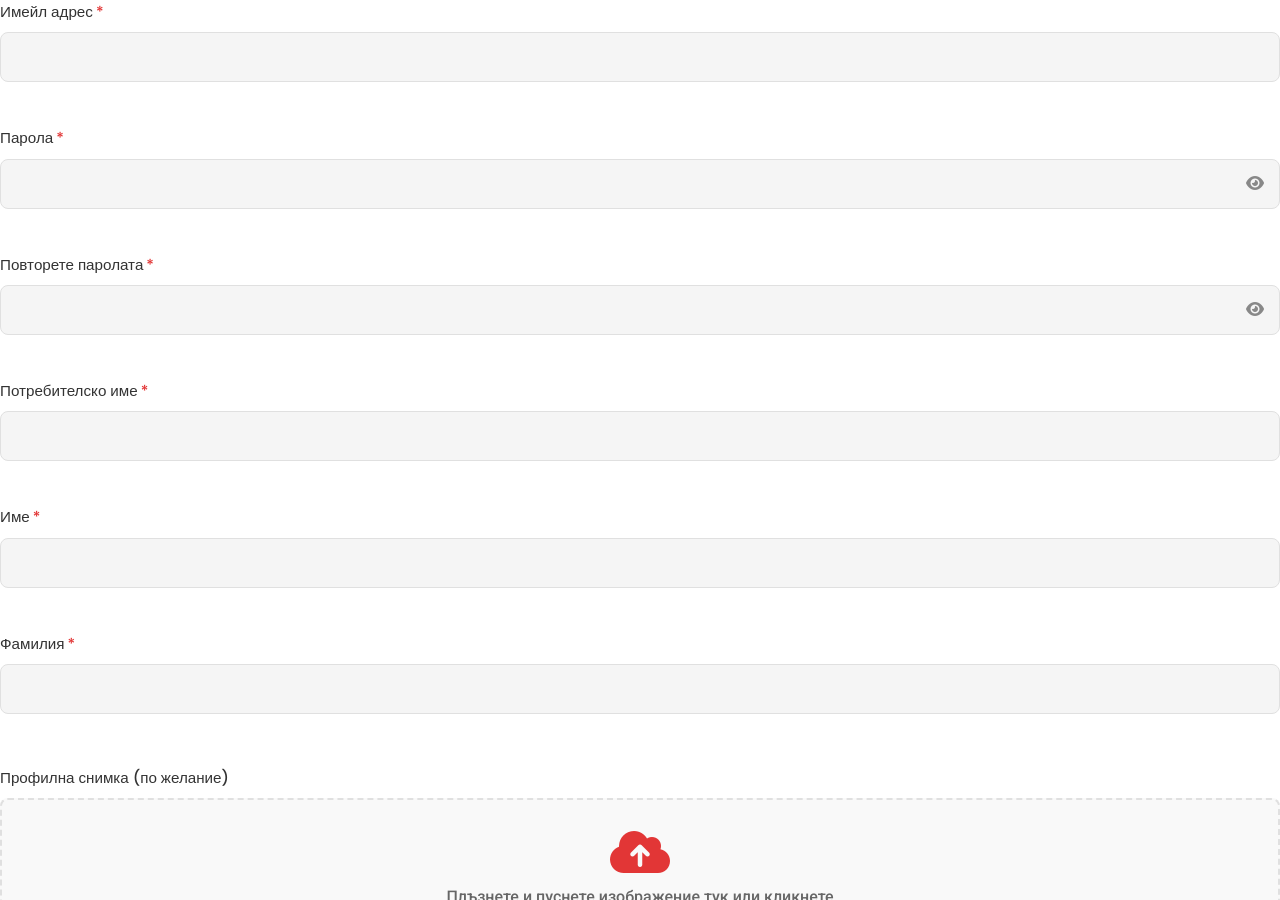
RegisterForm компонент › активира бутона за регистрация когато формата е валидна
This screenshot has width=1280, height=900.
Type "test@example.com" into the field labelled "Имейл адрес*". click: (640, 57)
box: [0,32,1279,82]
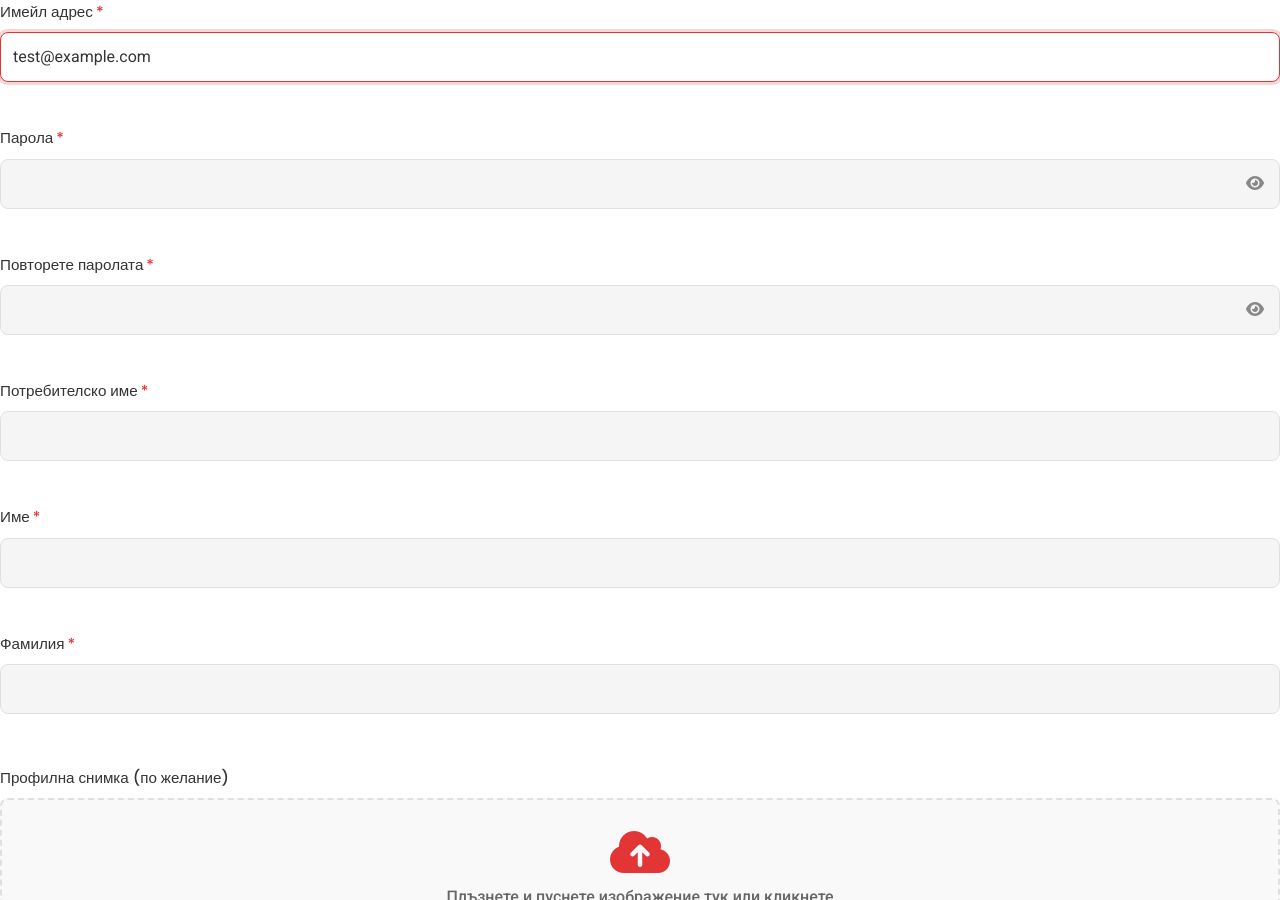
Type "Password123!" into the password field labelled "Парола*". click: (640, 184)
box: [0,159,1279,209]
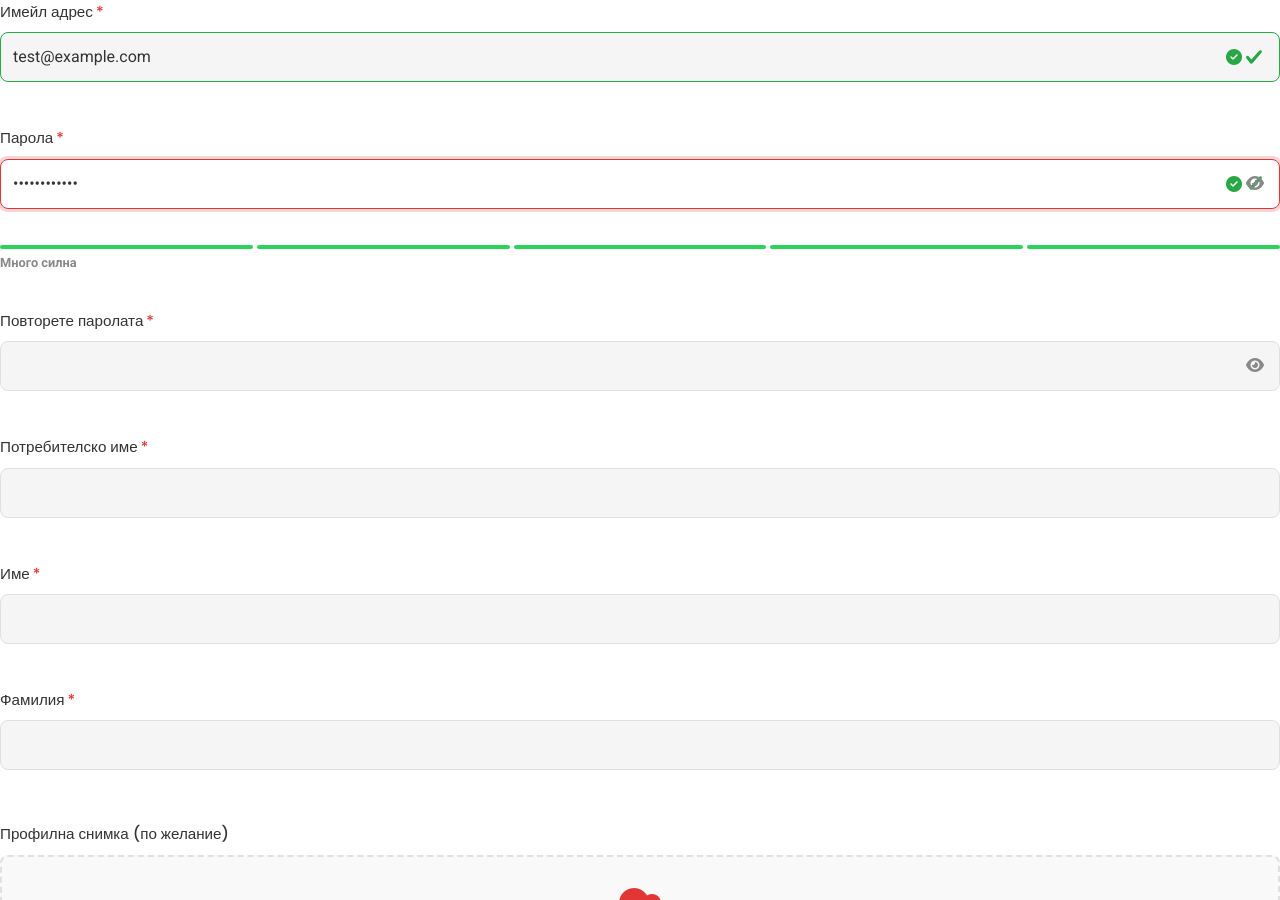
Type "Password123!" into the password field labelled "Повторете паролата*". click: (640, 366)
box: [0,341,1279,391]
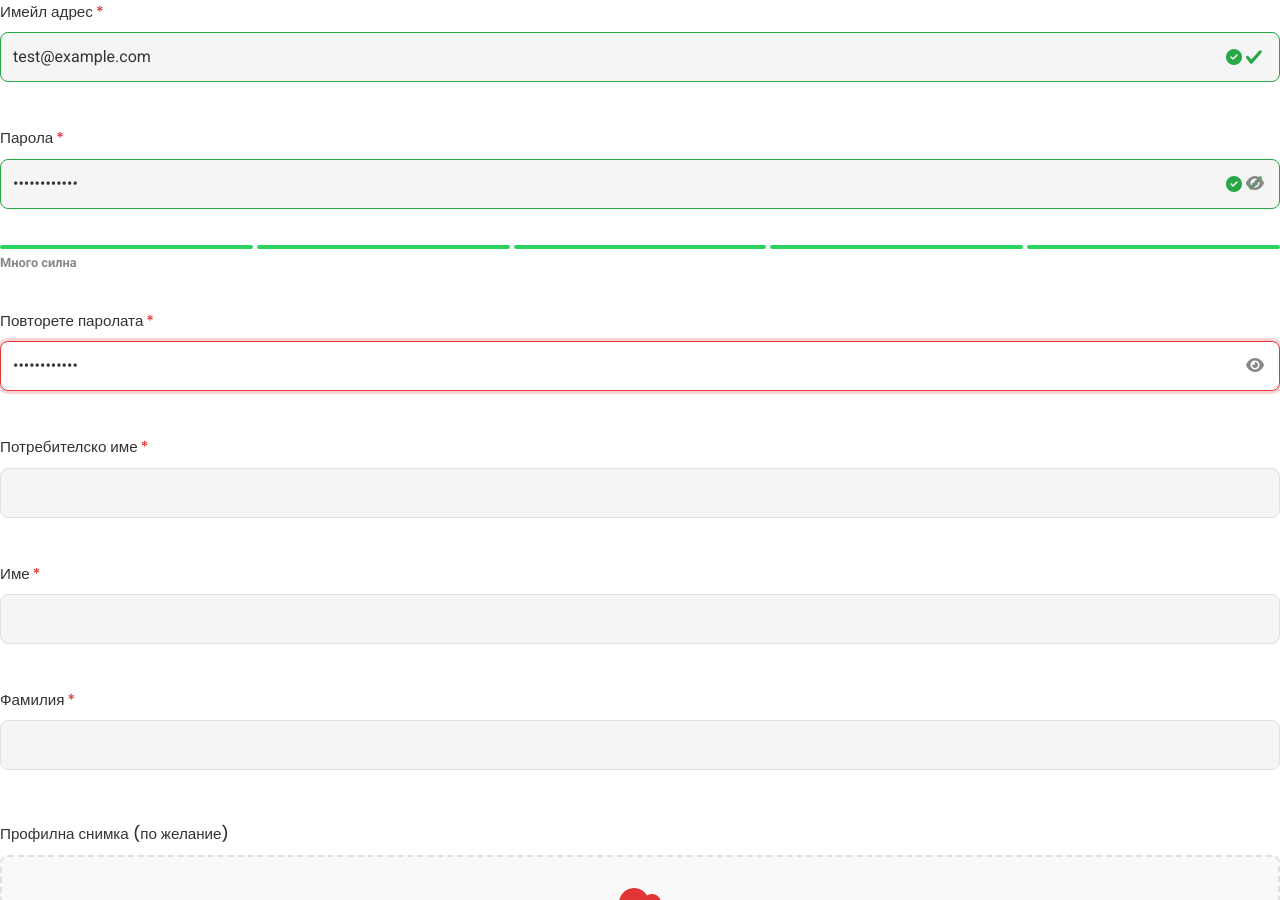
Type "testuser" into the field labelled "Потребителско име*". click: (640, 493)
box: [0,468,1279,518]
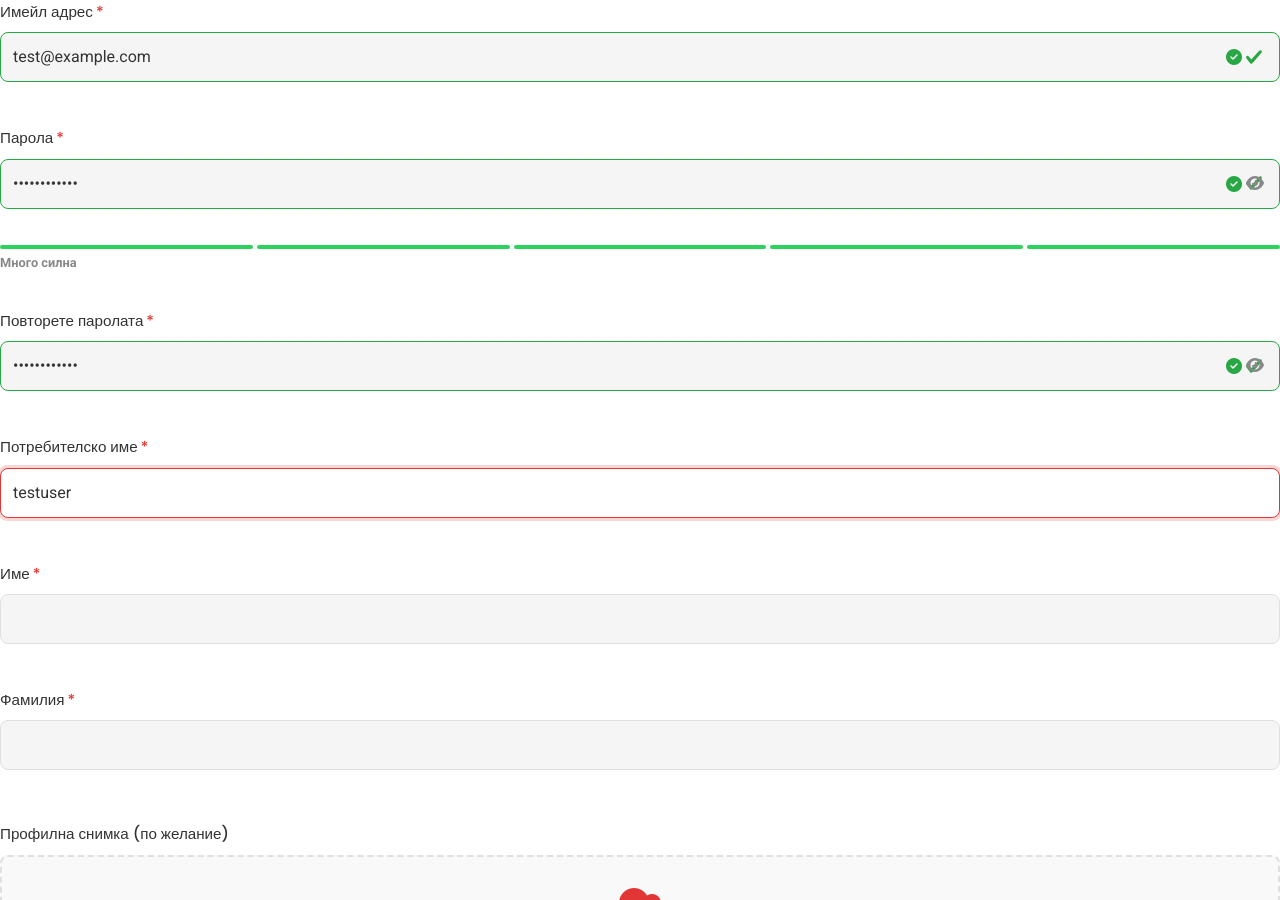
Type "Иван" into the field labelled "Име*". click: (640, 619)
box: [0,594,1279,644]
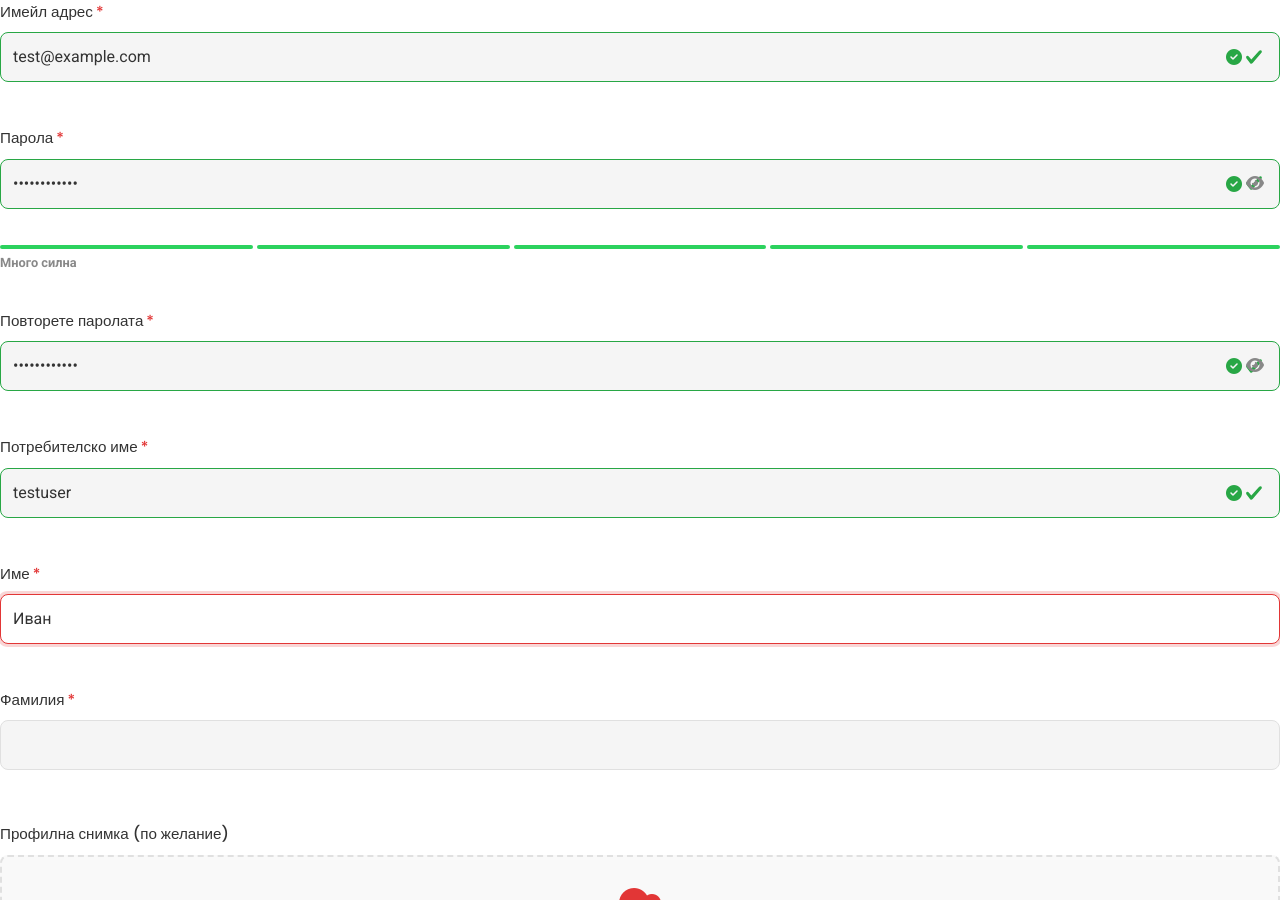
Type "Иванов" into the field labelled "Фамилия*". click: (640, 745)
box: [0,720,1279,770]
(page scrolled)
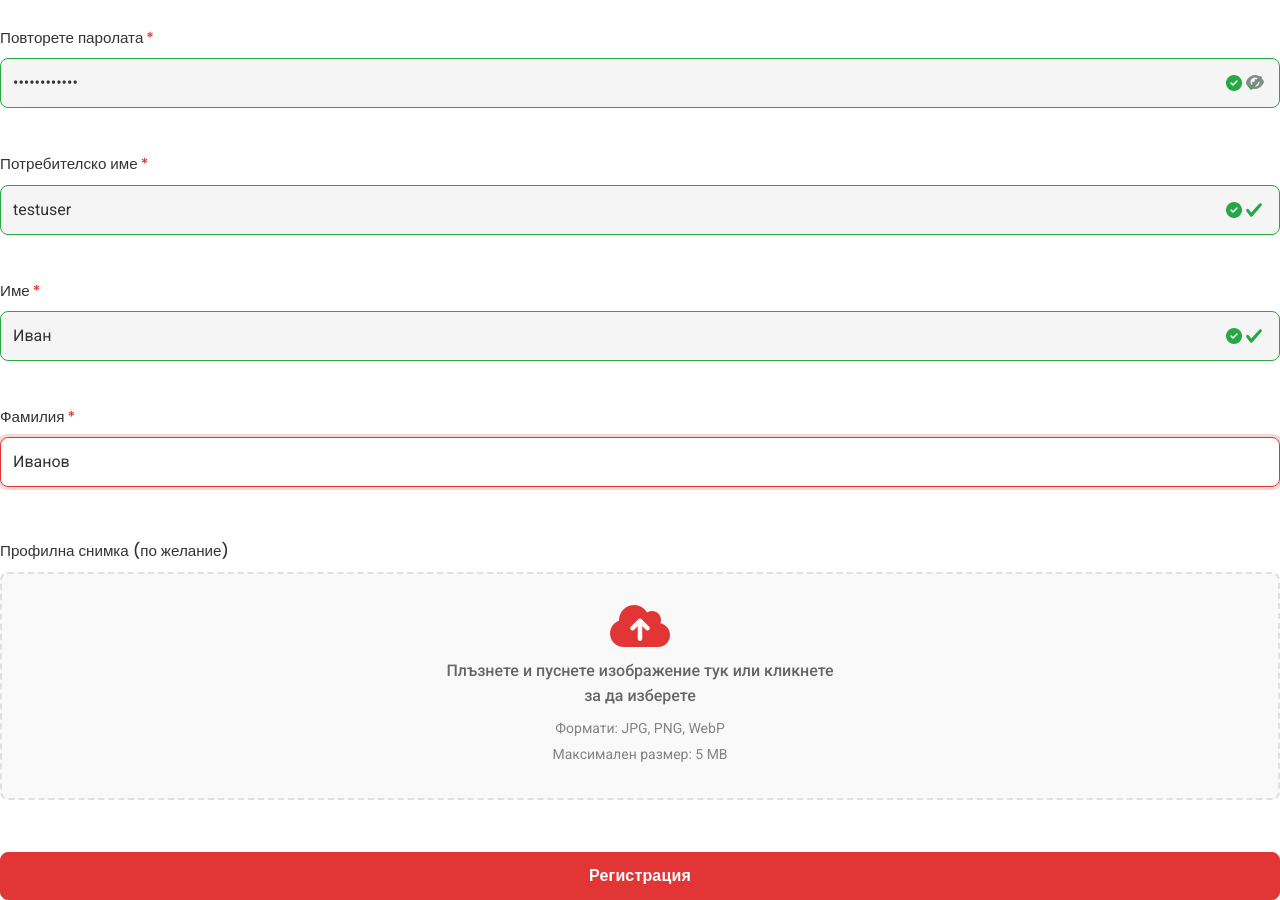
Result: the button "Регистрация" is enabled at [0,852,1279,899]
